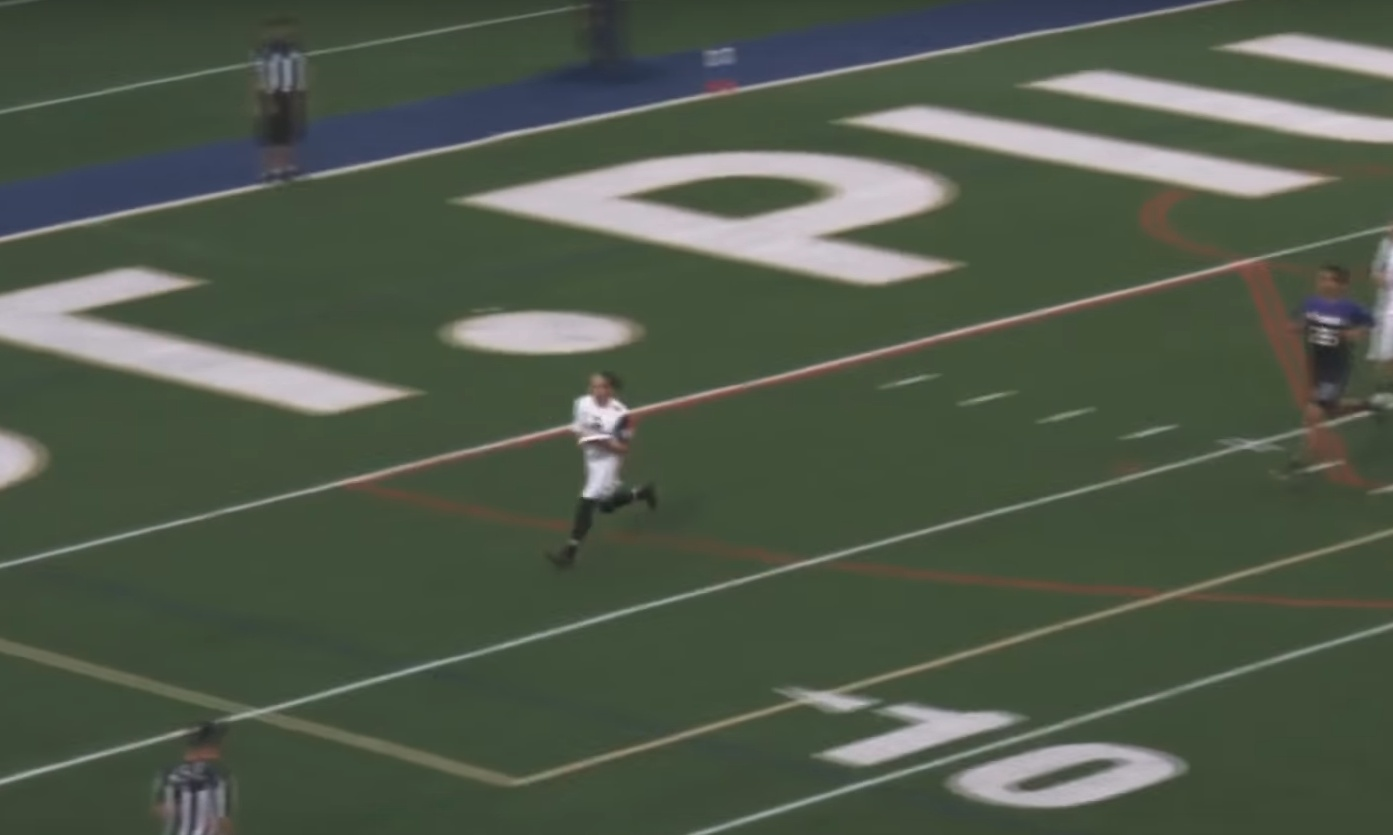frisbee: (578, 433, 613, 447)
